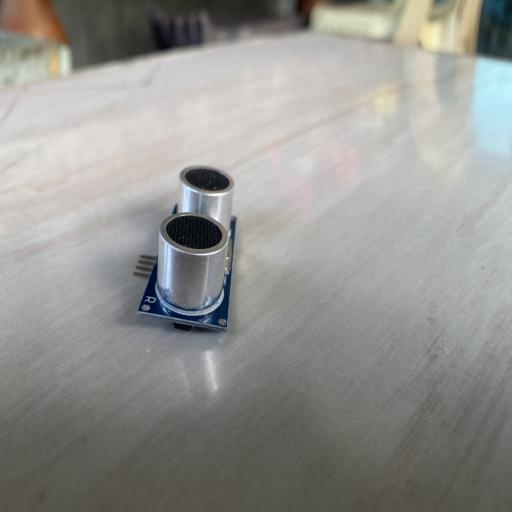Ultrasonic Sensor: (132, 164, 238, 332)
